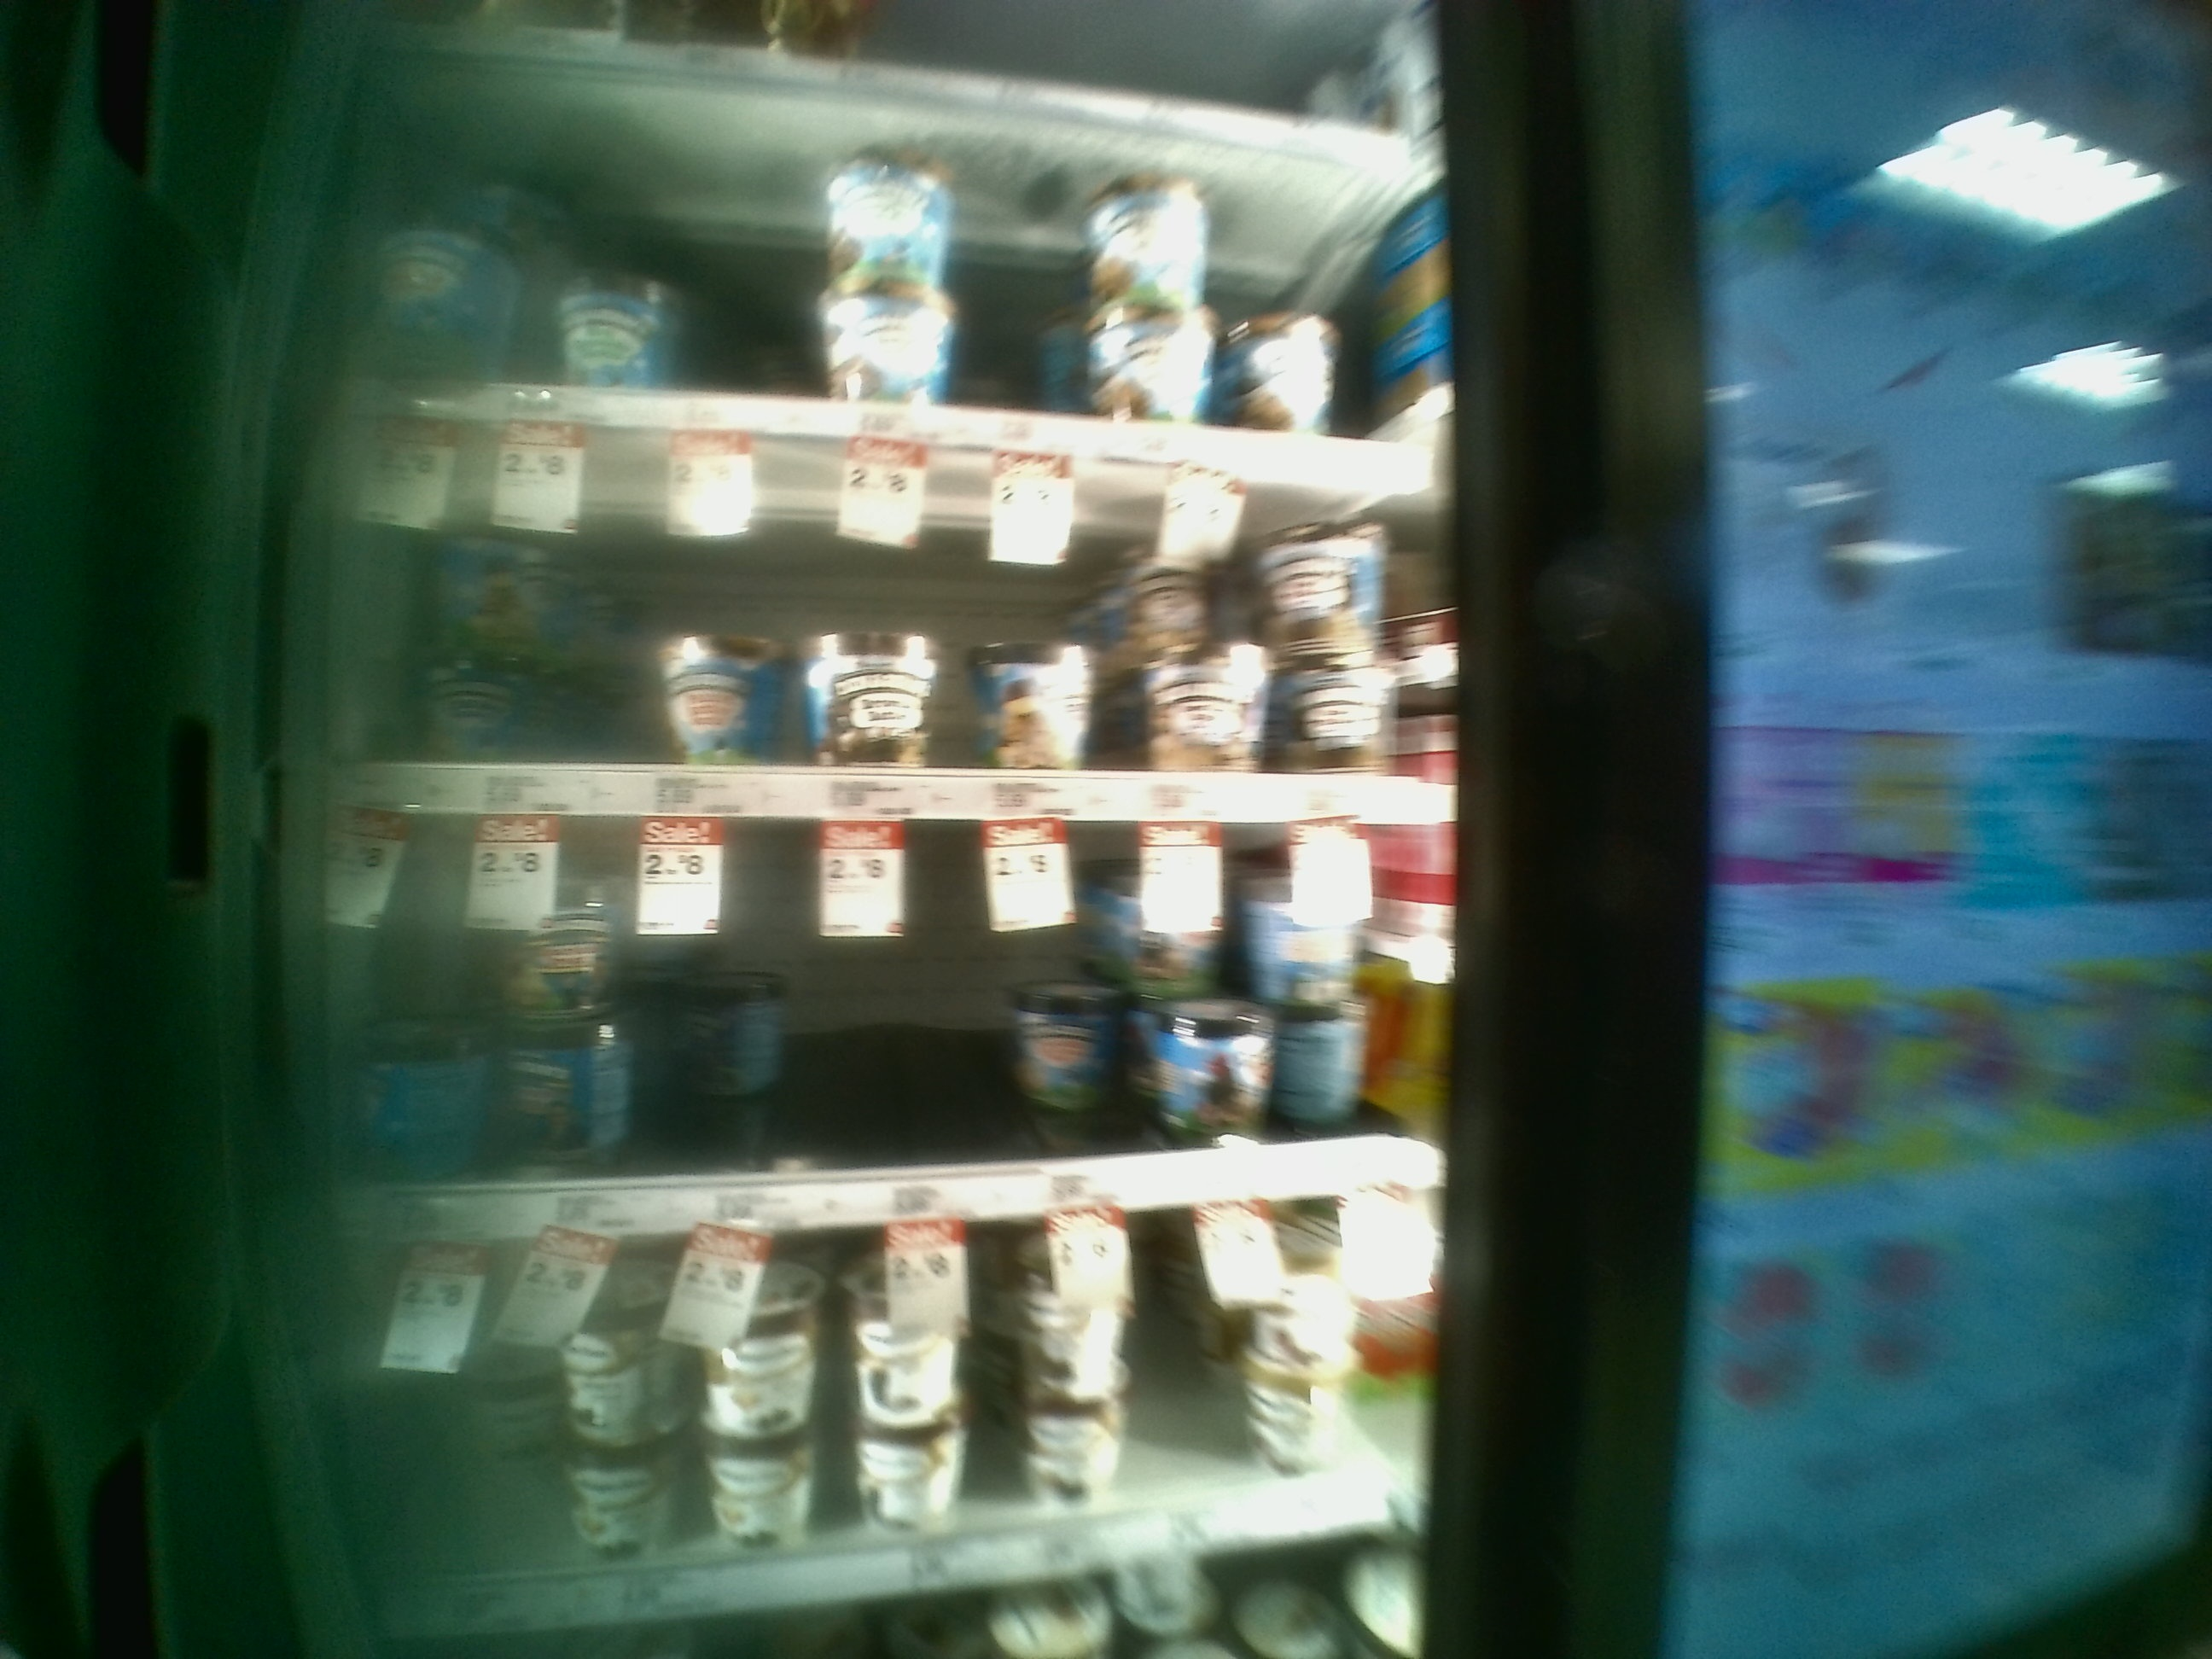shelf: (340, 819, 1460, 1253), (341, 427, 1444, 824)
